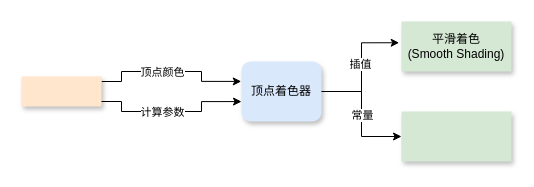
The diagram is 534 pixels wide and 187 high, and some of its shapes have lost their labels. Each missing label, with the centre of its shape:
"平面着色 （Flat Shading）" goes at (457,137).
"计算顶点颜色" goes at (62,92).
